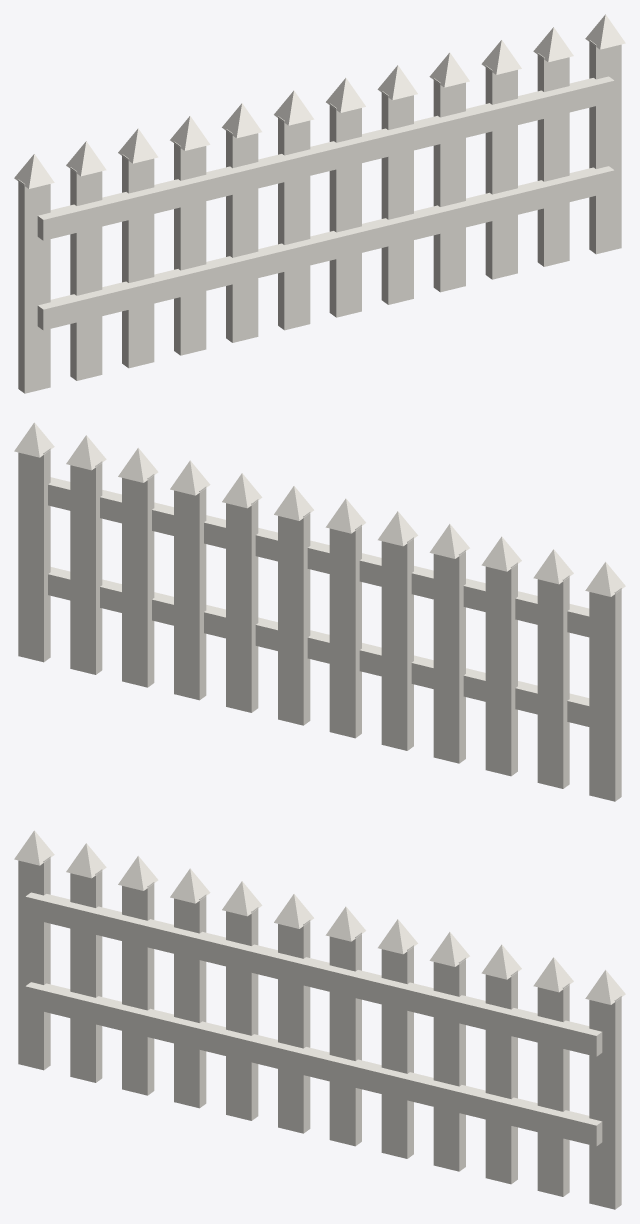
File: t_fence_2.gltf
3 renders of one model, top to bottom at view 1: azimuth 30°, elevation 25°; view 2: azimuth 150°, elevation 25°; view 3: azimuth 330°, elevation 25°, orthographic.
Visible parts, largest first — view 1: t_fence_2; view 2: t_fence_2; view 3: t_fence_2.
Boxes of the visible parts, x1=… form: t_fence_2: x1=14, y1=14, x2=625, y2=393; t_fence_2: x1=14, y1=422, x2=625, y2=801; t_fence_2: x1=14, y1=830, x2=625, y2=1209.
Bounding box in the file's own units: 2.09 × 0.785 × 0.1003.
1 material, 1 textured.
